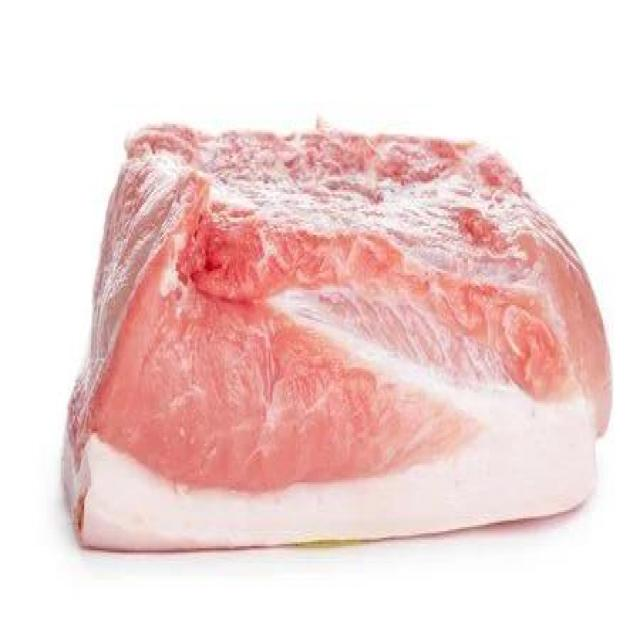Pork: (89, 142, 557, 532)
